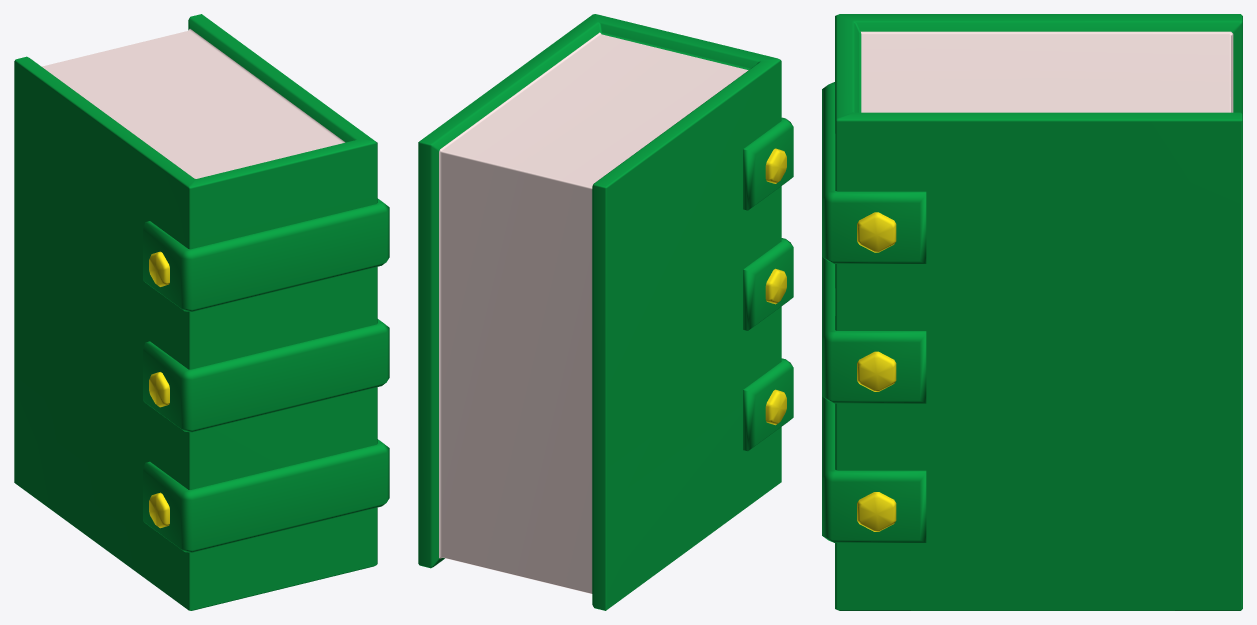
The model's file is Public_2_Book_2.glb.
3 views of the same model, side by side, from view 1: azimuth 30°, elevation 25°; view 2: azimuth 150°, elevation 25°; view 3: azimuth 270°, elevation 25° (orthographic). The views are drawn at different scales.
Parts seen in each view (by area): view 1: Public_2_Book_2; view 2: Public_2_Book_2; view 3: Public_2_Book_2.
Boxes of the visible parts, left/top/right/bottom form: Public_2_Book_2: left=14, top=14, right=389, bottom=610; Public_2_Book_2: left=418, top=14, right=793, bottom=610; Public_2_Book_2: left=822, top=14, right=1242, bottom=610.
Bounding box in the file's own units: 0.8589 × 1.59 × 1.23.
1 material, 1 textured.
